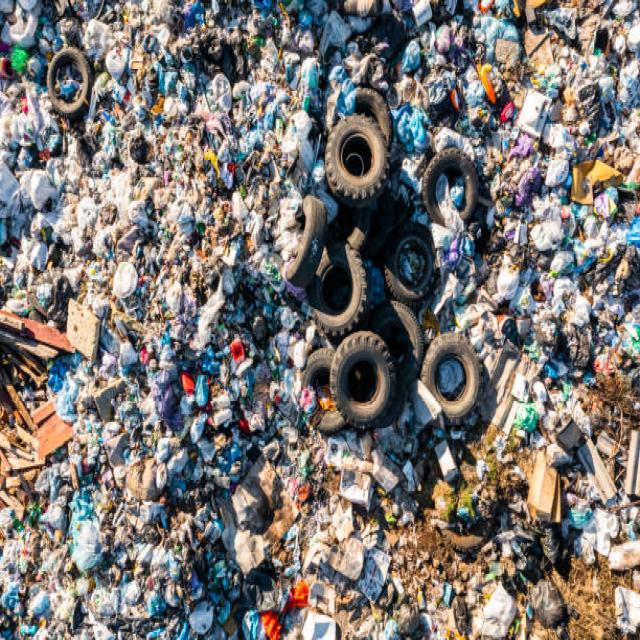paper: (336, 466, 402, 507), (532, 454, 565, 534), (361, 552, 390, 606)
plastic: (53, 205, 255, 640), (476, 52, 632, 450)
